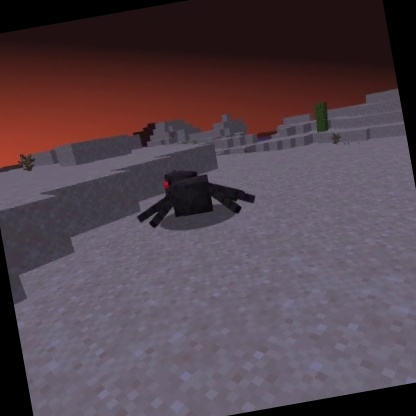spider: (127, 153, 261, 236)
